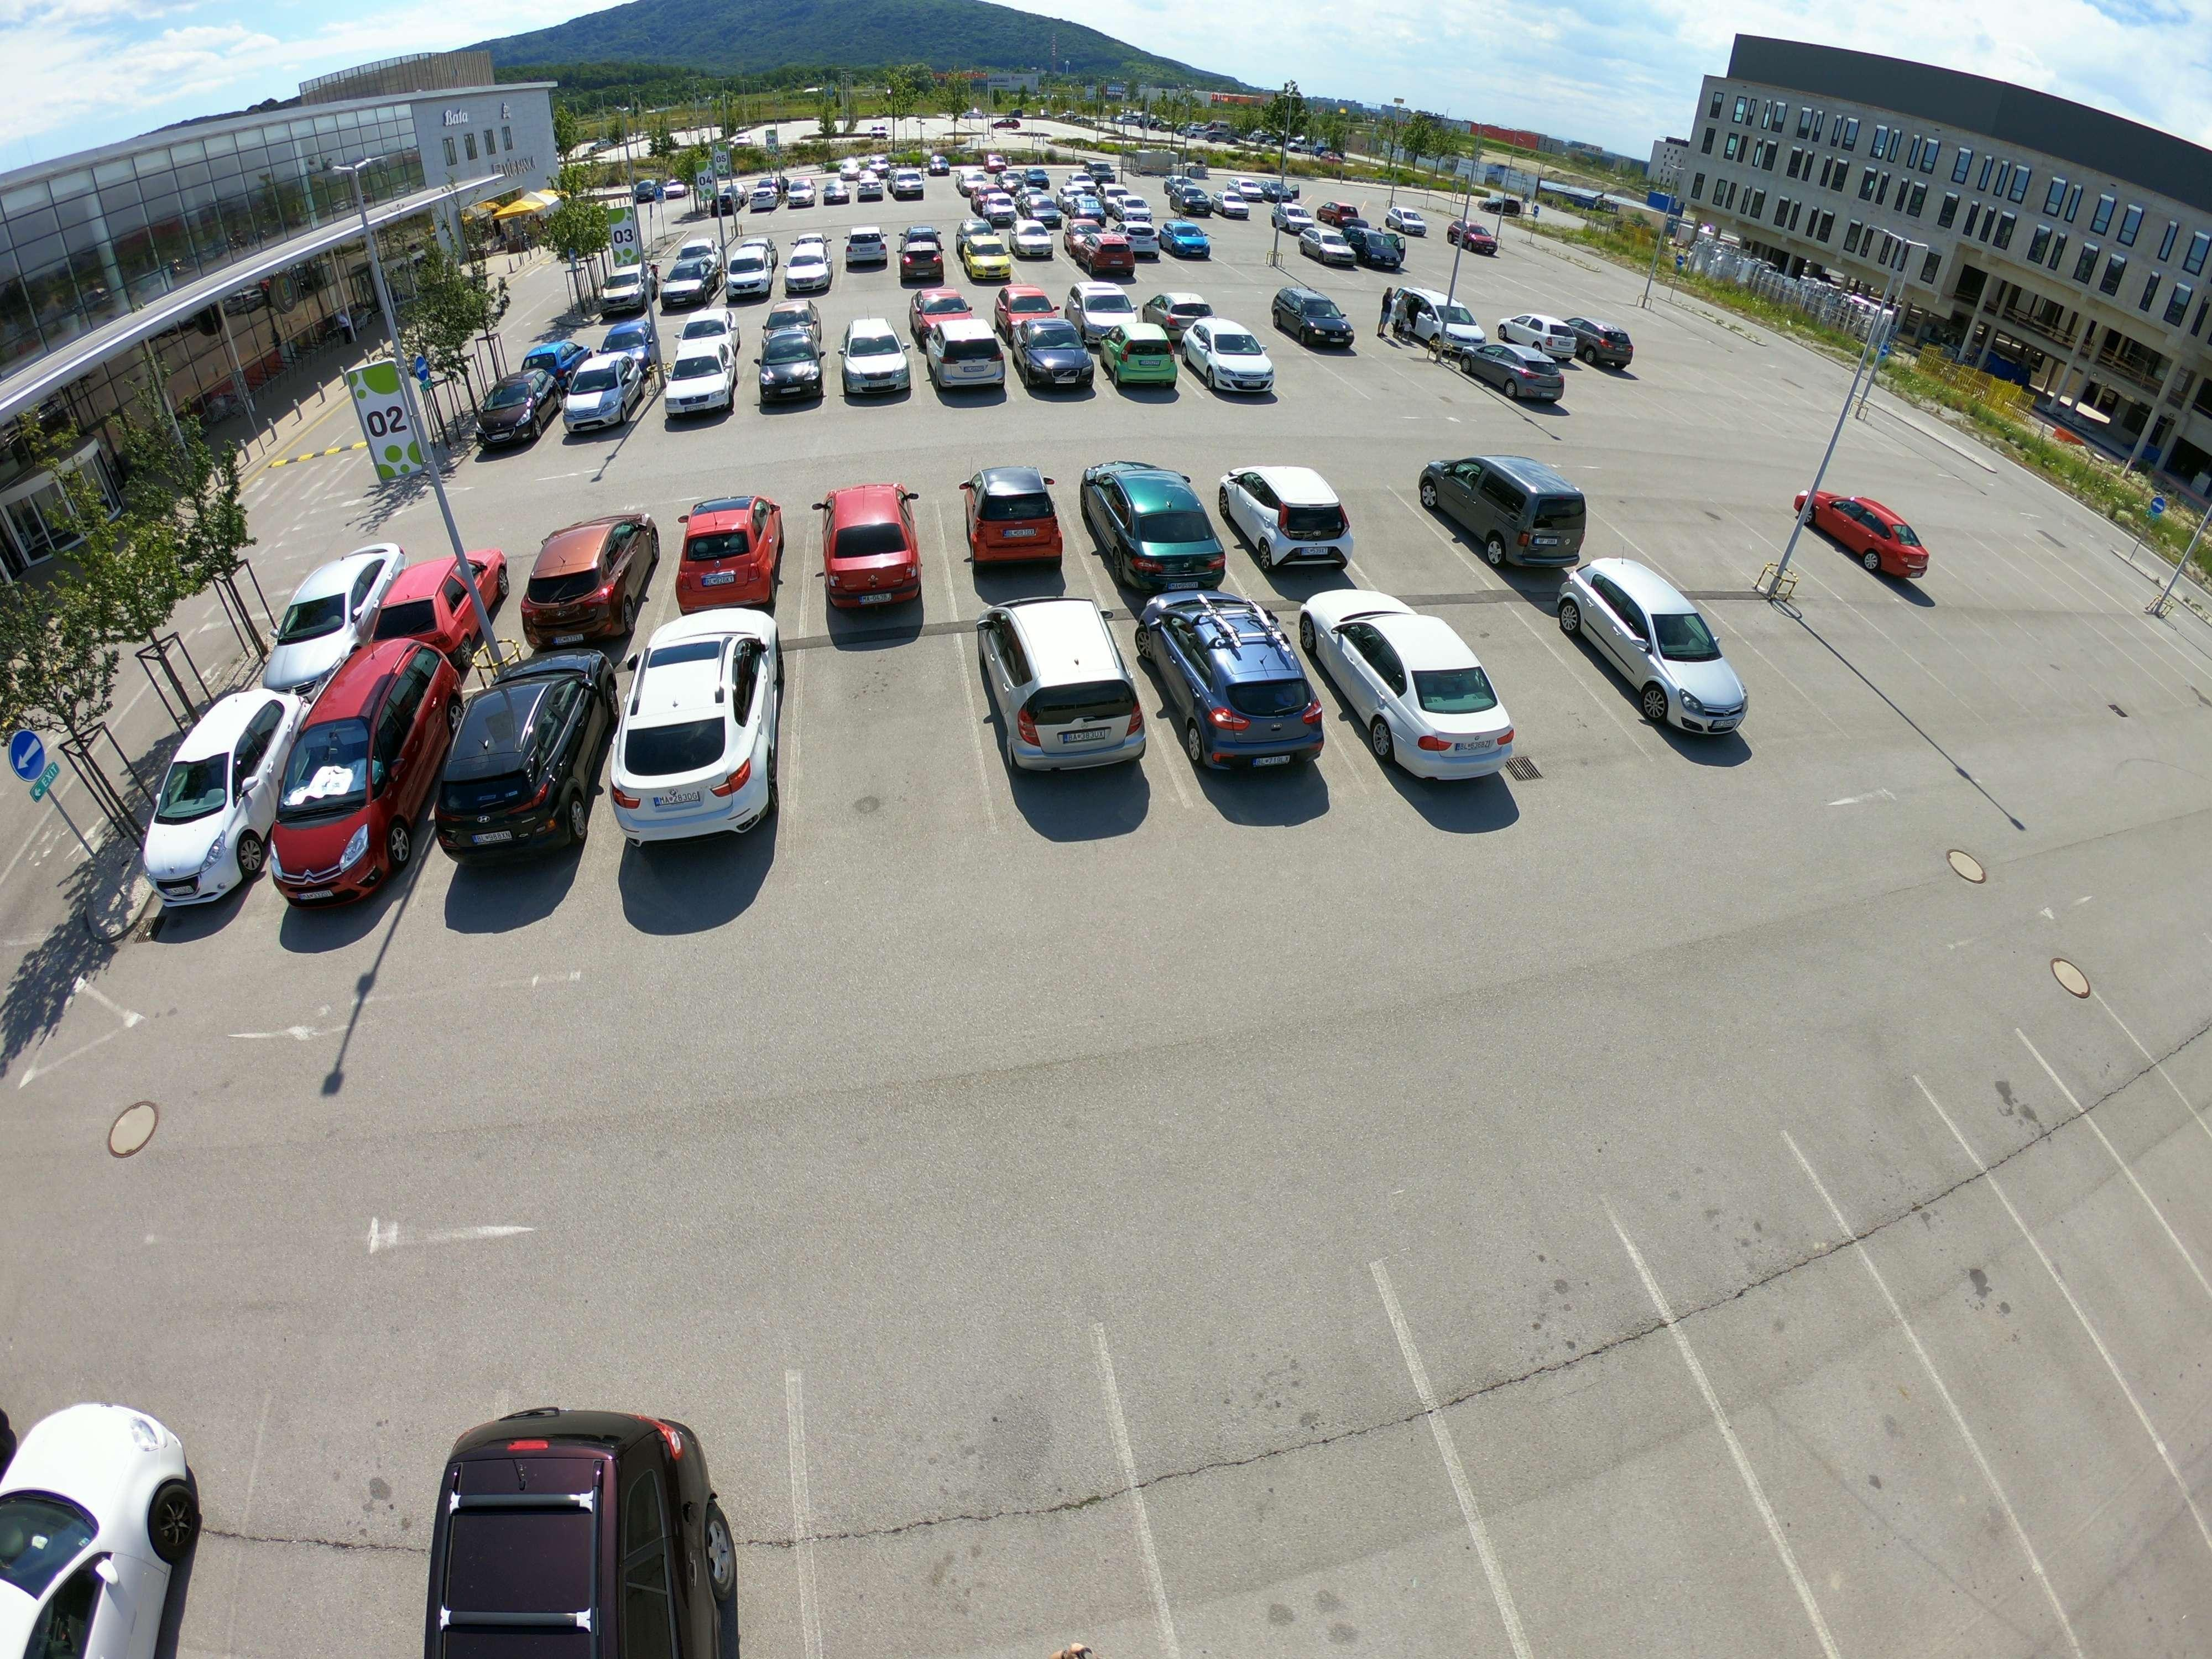empty: (1132, 1329, 1408, 1566), (808, 1359, 1097, 1568), (1721, 1286, 1923, 1562), (1455, 1312, 1687, 1550), (234, 1397, 392, 1659), (1964, 1246, 2110, 1501), (820, 635, 979, 864), (1472, 610, 1593, 755), (1910, 607, 2027, 751), (1790, 610, 1890, 737), (1350, 466, 1455, 588), (1613, 455, 1722, 567)
occupied: (417, 1364, 717, 1659), (19, 1381, 211, 1659), (613, 615, 804, 846), (267, 657, 436, 910), (1572, 551, 1763, 770), (430, 654, 610, 884), (1326, 581, 1505, 807), (1157, 592, 1337, 801), (972, 596, 1150, 804), (131, 675, 285, 908), (1411, 436, 1584, 566), (1079, 444, 1230, 591), (800, 469, 936, 621), (1803, 465, 1944, 599), (521, 505, 661, 638), (1223, 444, 1357, 573), (670, 477, 792, 608), (267, 533, 368, 689), (952, 452, 1067, 573), (388, 527, 497, 645)
